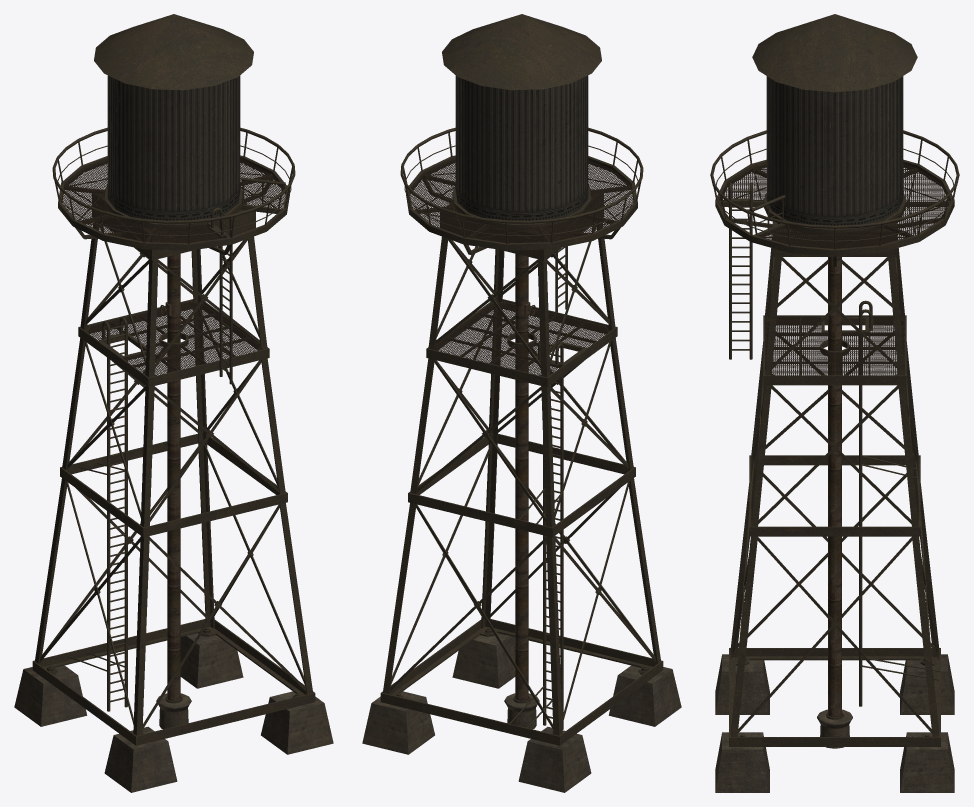
File: water_tower_hm_1.obj
3 views of the same model, side by side, from view 1: azimuth 30°, elevation 25°; view 2: azimuth 150°, elevation 25°; view 3: azimuth 270°, elevation 25° (orthographic). The views are drawn at different scales.
Visible parts, largest first — view 1: water_tower_hm_1; view 2: water_tower_hm_1; view 3: water_tower_hm_1.
Part boxes in pixels (left/top/right/bottom): water_tower_hm_1: left=14, top=14, right=333, bottom=792; water_tower_hm_1: left=362, top=14, right=681, bottom=792; water_tower_hm_1: left=710, top=14, right=959, bottom=792.
Size of the model in its own units: 7.29 by 23.5 by 7.29.
